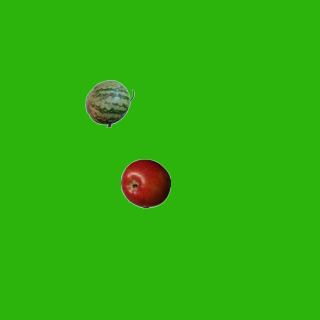Apple Braeburn: (120, 158, 170, 208)
Watermelon: (84, 78, 134, 128)
